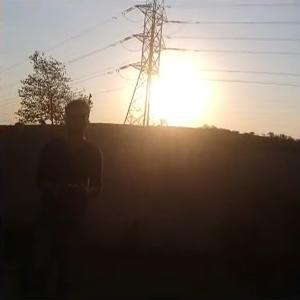follow: (29, 94, 105, 298)
